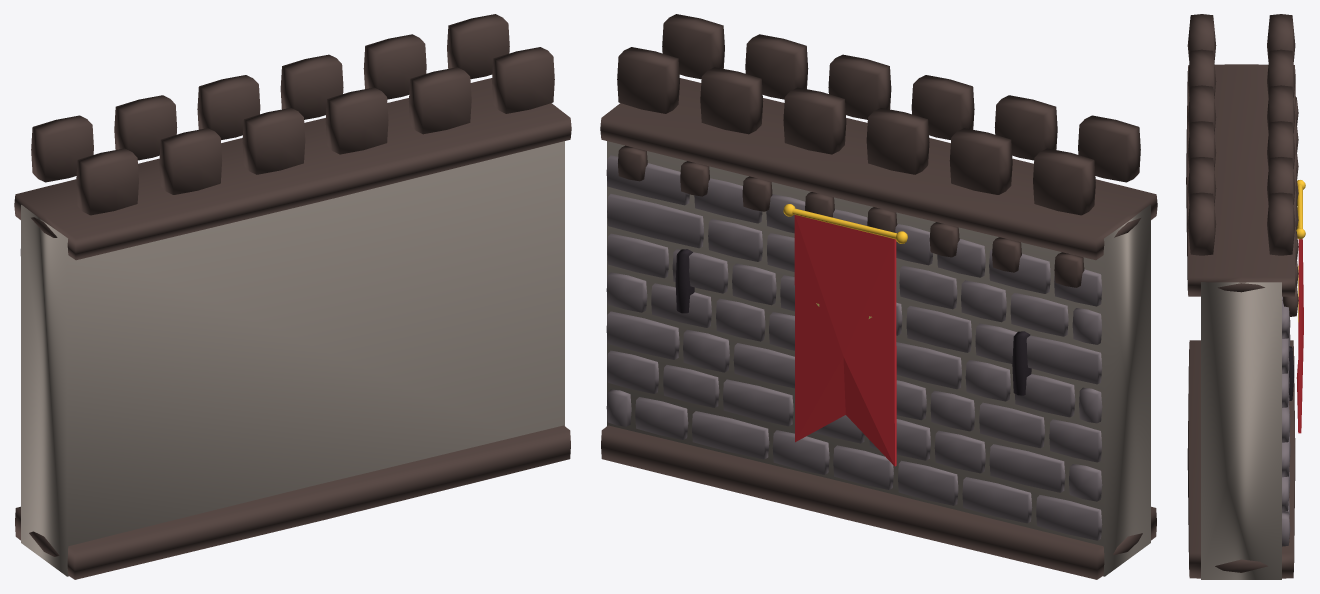
File: ArrowAmbushCastleWall.obj
The picture shows the model from 3 angles, left to right: view 1: azimuth 30°, elevation 25°; view 2: azimuth 150°, elevation 25°; view 3: azimuth 270°, elevation 25°; orthographic projection. The views are drawn at different scales.
Visible parts, largest first — view 1: Mortar, Trim; view 2: Trim, Stone, Mortar, Banner, Window, Gold; view 3: Trim, Mortar, Stone, Banner, Gold, Window.
Part boxes in pixels (box(x1,y1,x2,y2)): Mortar: box(21, 141, 564, 576); Trim: box(14, 14, 571, 579); Trim: box(600, 14, 1157, 579); Stone: box(606, 155, 1102, 540); Mortar: box(607, 141, 1150, 576); Banner: box(794, 215, 896, 466); Window: box(675, 249, 1031, 395); Gold: box(783, 204, 907, 243); Trim: box(1186, 14, 1298, 578); Mortar: box(1201, 282, 1281, 579); Stone: box(1282, 296, 1290, 546); Banner: box(1296, 239, 1303, 433); Gold: box(1296, 180, 1305, 239); Window: box(1289, 346, 1294, 400).
Bounding box in the file's own units: 16 × 12.6 × 3.78.
